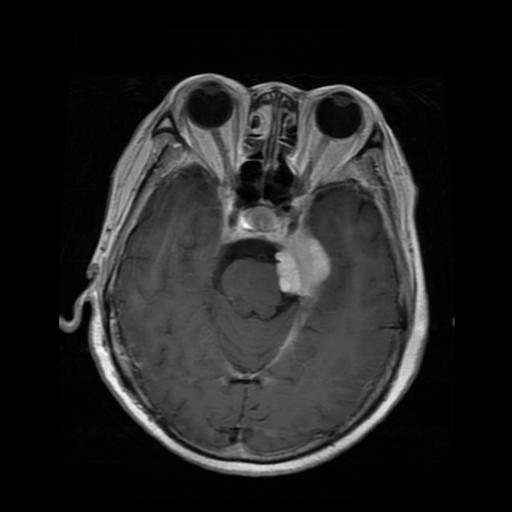Tumour-Meningioma: (261, 226, 365, 319)
